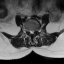CCS_stenosis: (31, 28, 32, 36)
LFS_stenosis: (34, 27, 36, 33)
LLS_stenosis: (32, 28, 34, 35)
RFS_stenosis: (27, 27, 29, 32)
RLS_normal: (29, 28, 31, 35)
